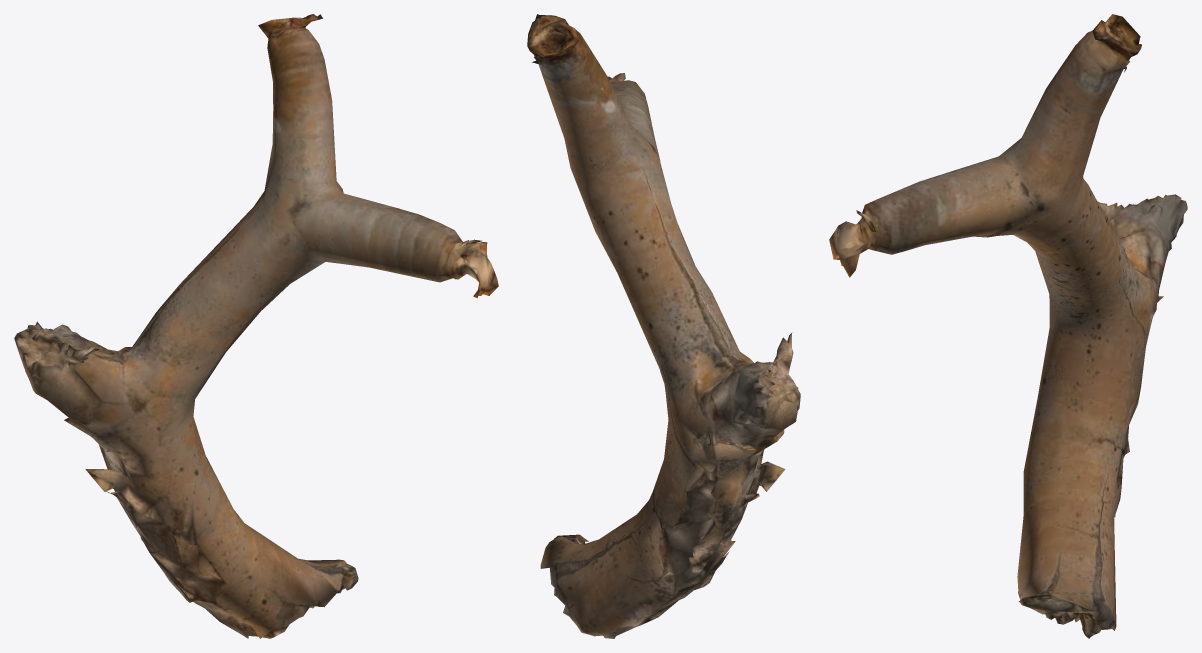
The model's file is pl_dead_branch.glb.
3 views of the same model, side by side, from view 1: azimuth 30°, elevation 25°; view 2: azimuth 150°, elevation 25°; view 3: azimuth 270°, elevation 25° (orthographic). The views are drawn at different scales.
Visible parts, largest first — view 1: dead_quiver_branch_01; view 2: dead_quiver_branch_01; view 3: dead_quiver_branch_01.
Part boxes in pixels (x1,y1,x2,y2): dead_quiver_branch_01: [14, 14, 498, 638]; dead_quiver_branch_01: [527, 14, 800, 638]; dead_quiver_branch_01: [829, 14, 1187, 638].
Size of the model in its own units: 0.9988 by 1.72 by 0.8876.
1 material, 1 textured.
